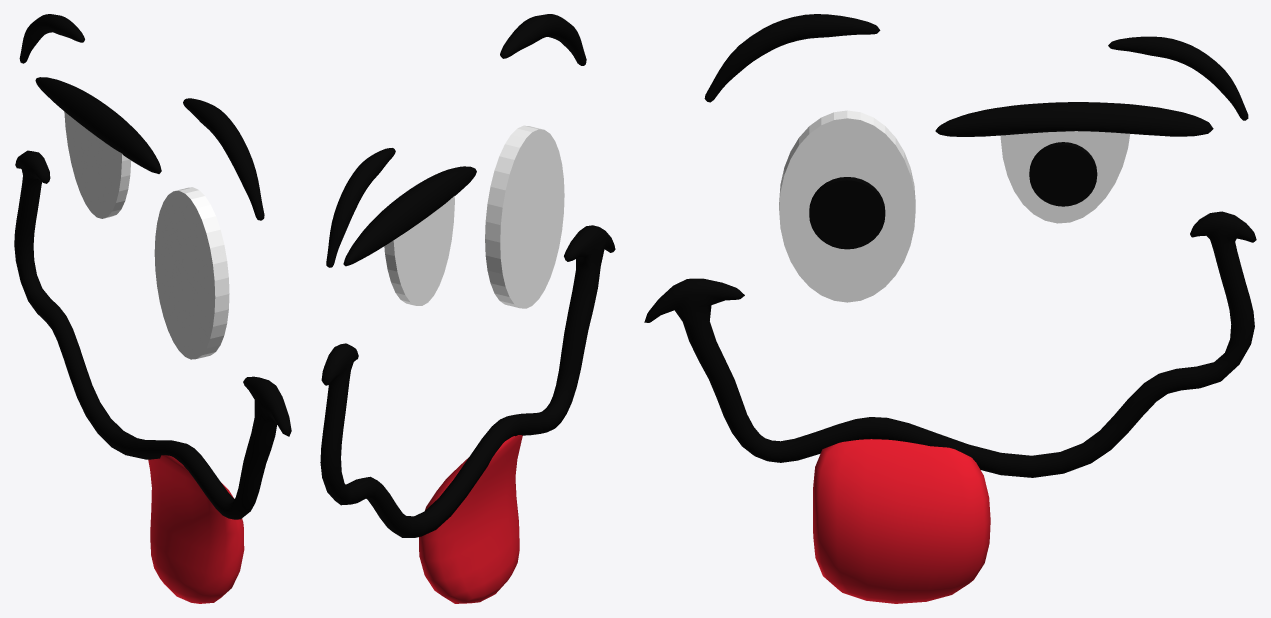
The model's file is Dumb face.fbx.
3 views of the same model, side by side, from view 1: azimuth 30°, elevation 25°; view 2: azimuth 150°, elevation 25°; view 3: azimuth 270°, elevation 25° (orthographic). The views are drawn at different scales.
Parts seen in each view (by area): view 1: Cube.003, Circle, Cube.004, Circle.001, Sphere, Cube.002, Cube.001; view 2: Cube.003, Circle, Cube.004, Circle.001, Sphere, Cube.001, Cube.002; view 3: Cube.004, Cube.003, Circle, Circle.002, Sphere, Circle.001, Cube.002, Cube.001.
Boxes of the visible parts, bbox=[...] form: Cube.003: bbox=[14, 150, 291, 519]; Circle: bbox=[154, 187, 229, 359]; Cube.004: bbox=[148, 455, 244, 603]; Circle.001: bbox=[64, 111, 131, 218]; Sphere: bbox=[35, 77, 161, 173]; Cube.002: bbox=[183, 98, 264, 220]; Cube.001: bbox=[19, 14, 84, 63]; Cube.003: bbox=[320, 225, 615, 537]; Circle: bbox=[485, 125, 564, 308]; Cube.004: bbox=[419, 435, 522, 603]; Circle.001: bbox=[384, 196, 454, 305]; Sphere: bbox=[343, 166, 476, 266]; Cube.001: bbox=[326, 148, 395, 267]; Cube.002: bbox=[500, 14, 586, 65]; Cube.004: bbox=[813, 439, 990, 603]; Cube.003: bbox=[644, 211, 1256, 477]; Circle: bbox=[779, 110, 915, 302]; Circle.002: bbox=[809, 142, 1097, 249]; Sphere: bbox=[935, 102, 1213, 136]; Circle.001: bbox=[1000, 131, 1130, 223]; Cube.002: bbox=[704, 14, 880, 102]; Cube.001: bbox=[1108, 36, 1248, 120].
Size of the model in its own units: 36.71 by 297 by 283.
